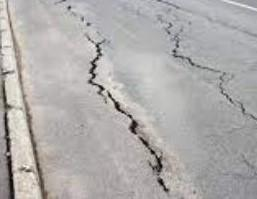crack: (155, 0, 257, 118), (94, 80, 170, 199), (55, 0, 113, 86)
